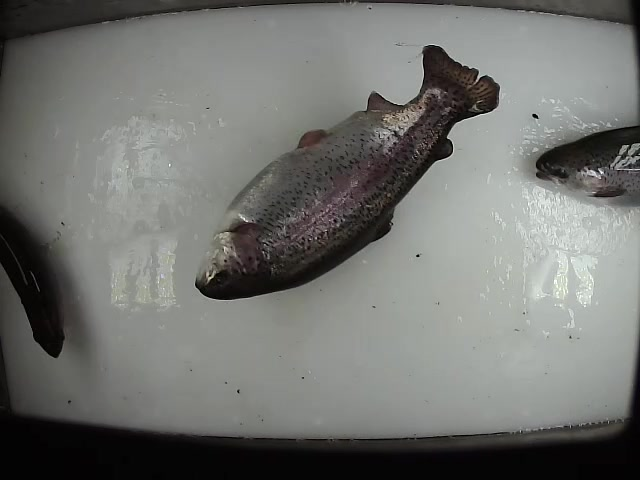fish: (192, 40, 503, 304), (1, 201, 68, 363), (536, 120, 640, 201)
